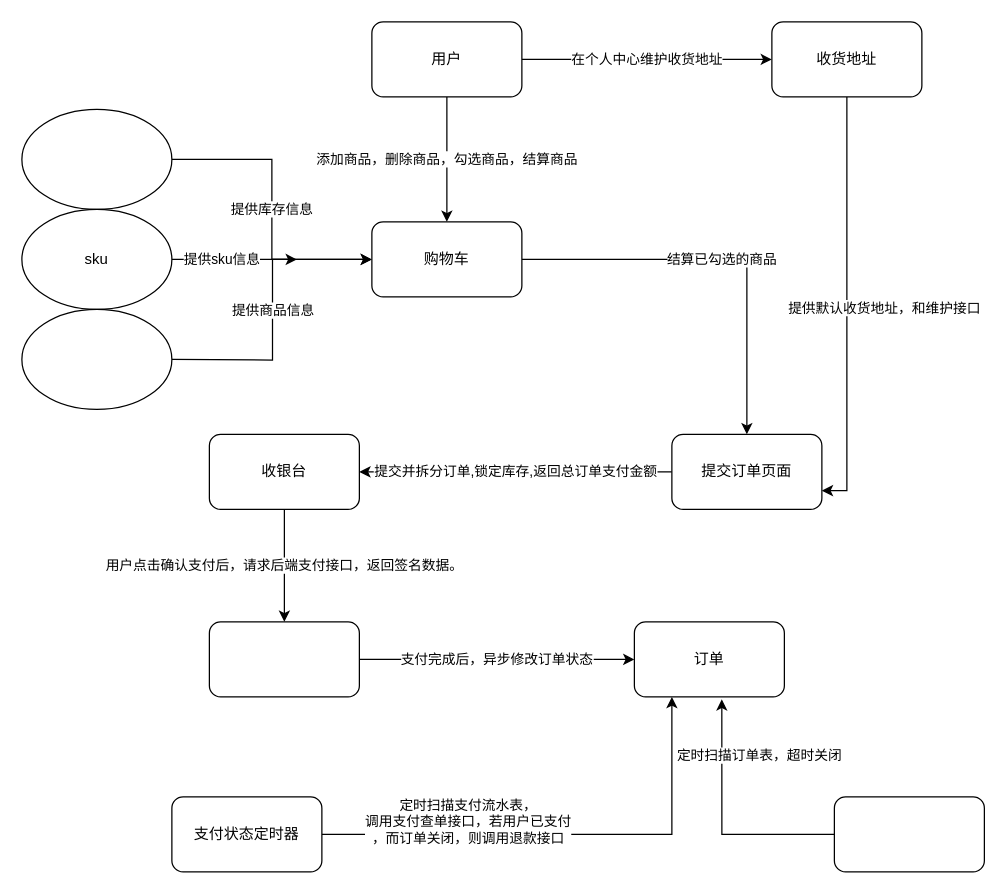
Image size: 1006x894. Some labels were removed from this diagram. Here are the shapes that lost their labels. From the top down, the centre of each, then its label:
At (96,158): "库存".
At (96,358): "商品".
At (283,659): "支付宝APP或者微信app".
At (908,834): "订单超时关闭定时器".
